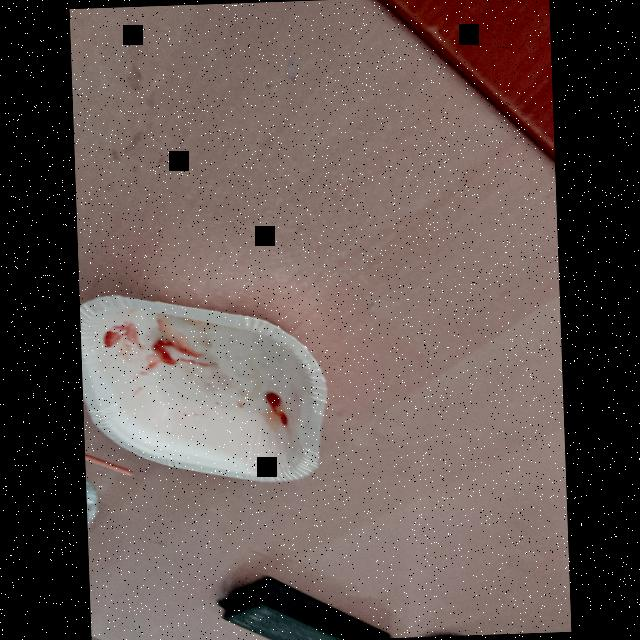cardboard_bowl: (80, 288, 328, 492)
